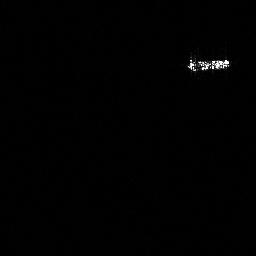ship: (186, 53, 231, 73)
